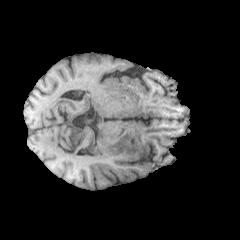glioma: (88, 139, 139, 159)
